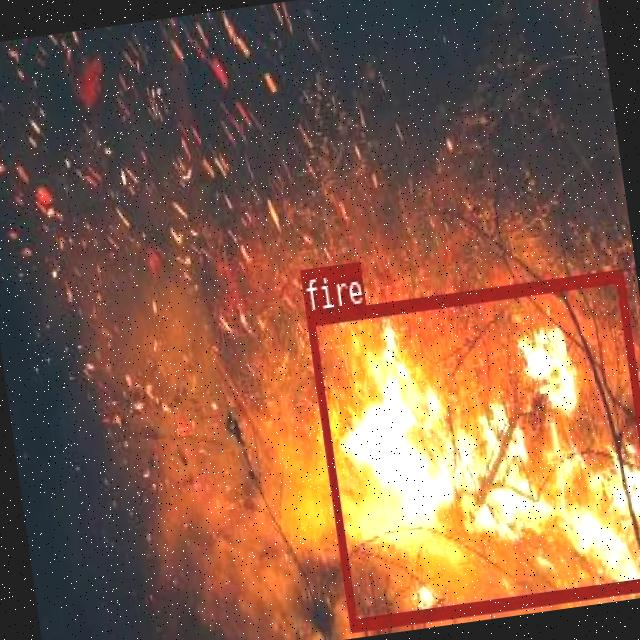fire: (305, 268, 640, 629)
